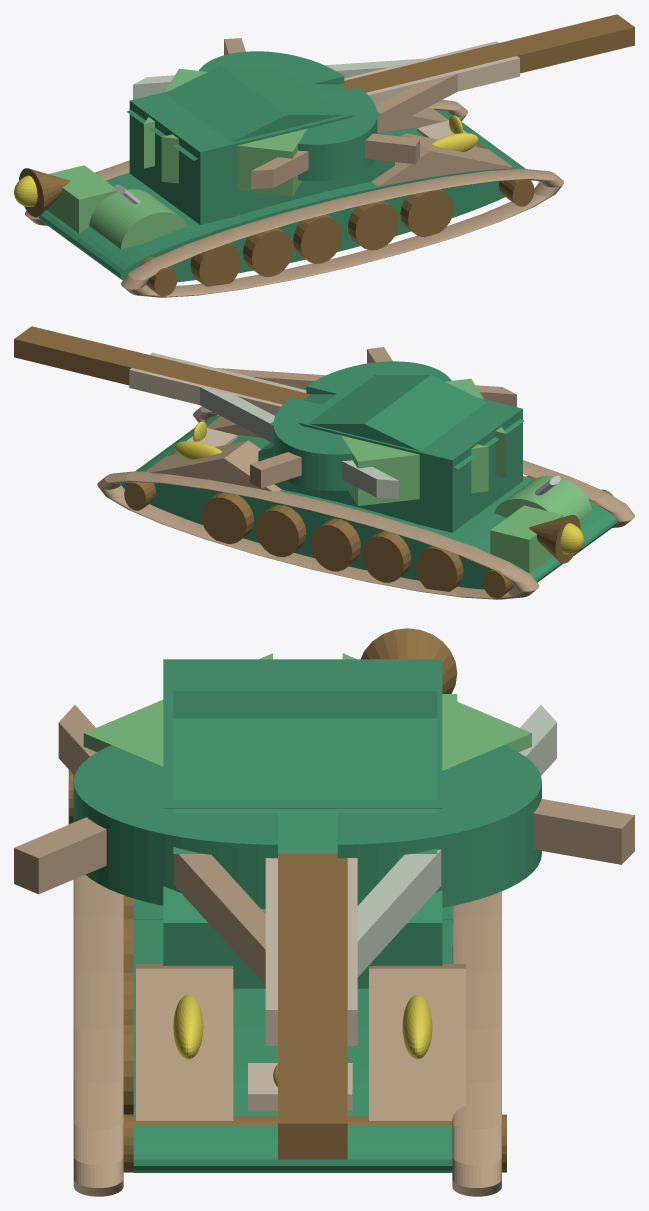
Rendered from C-152 Project Part-2.glb.
3 renders of one model, top to bottom at view 1: azimuth 30°, elevation 25°; view 2: azimuth 150°, elevation 25°; view 3: azimuth 270°, elevation 25°, orthographic. The views are drawn at different scales.
Visible parts, largest first — view 1: Mesh_Mesh_head_geo.001_lambert2SG.001; view 2: Mesh_Mesh_head_geo.001_lambert2SG.001; view 3: Mesh_Mesh_head_geo.001_lambert2SG.001.
Part boxes in pixels (x1,y1,x2,y2): Mesh_Mesh_head_geo.001_lambert2SG.001: (14,14,634,297); Mesh_Mesh_head_geo.001_lambert2SG.001: (14,326,634,599); Mesh_Mesh_head_geo.001_lambert2SG.001: (14,628,634,1196).
Size of the model in its own units: 268 by 63 by 125.
